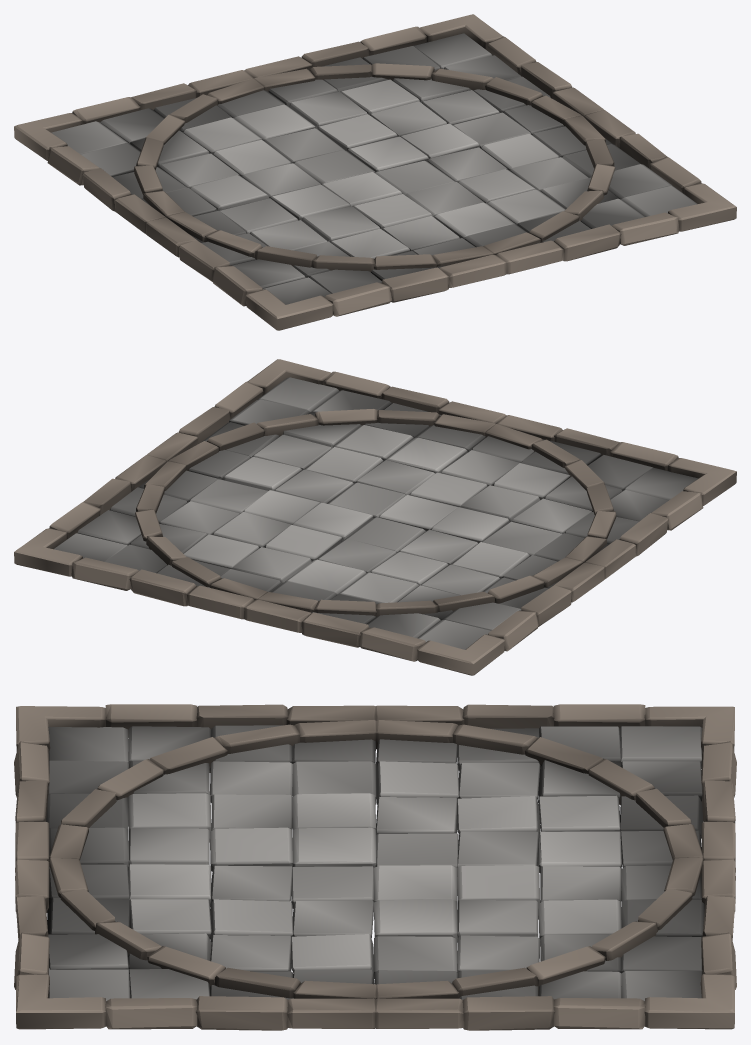
Rendered from floor_decoration_B.FBX.
The picture shows the model from 3 angles, top to bottom: view 1: azimuth 30°, elevation 25°; view 2: azimuth 150°, elevation 25°; view 3: azimuth 270°, elevation 25°; orthographic projection. The views are drawn at different scales.
Visible parts, largest first — view 1: floor_decoration_B; view 2: floor_decoration_B; view 3: floor_decoration_B.
Boxes of the visible parts, x1,y1,x2,y2 form: floor_decoration_B: [14, 14, 736, 330]; floor_decoration_B: [14, 359, 736, 675]; floor_decoration_B: [14, 704, 736, 1030].
Bounding box in the file's own units: 4.11 × 0.1567 × 4.08.
